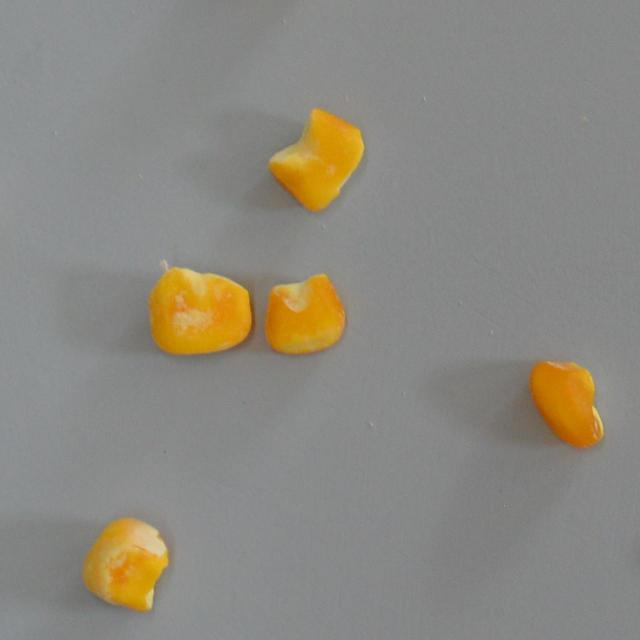no_canjicado: (266, 105, 364, 211), (264, 272, 344, 356), (531, 358, 606, 447)
pelicula: (146, 264, 254, 357), (80, 515, 169, 614)
